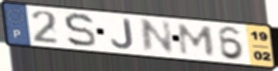2: (30, 10, 60, 44)
6: (217, 25, 245, 62)
J: (110, 18, 135, 51)
M: (178, 23, 217, 58)
N: (139, 18, 176, 54)
S: (62, 12, 98, 49)
